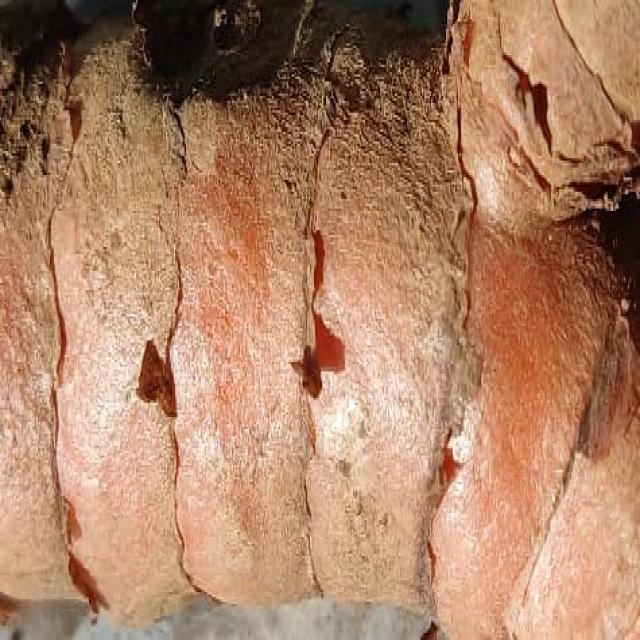ginger: (2, 0, 640, 618)
